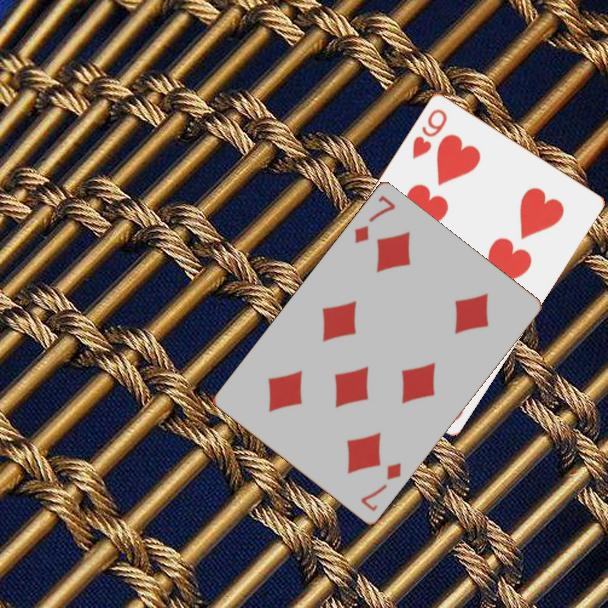d07: (351, 192, 399, 247), (357, 460, 404, 515)
h09: (408, 105, 450, 162)
